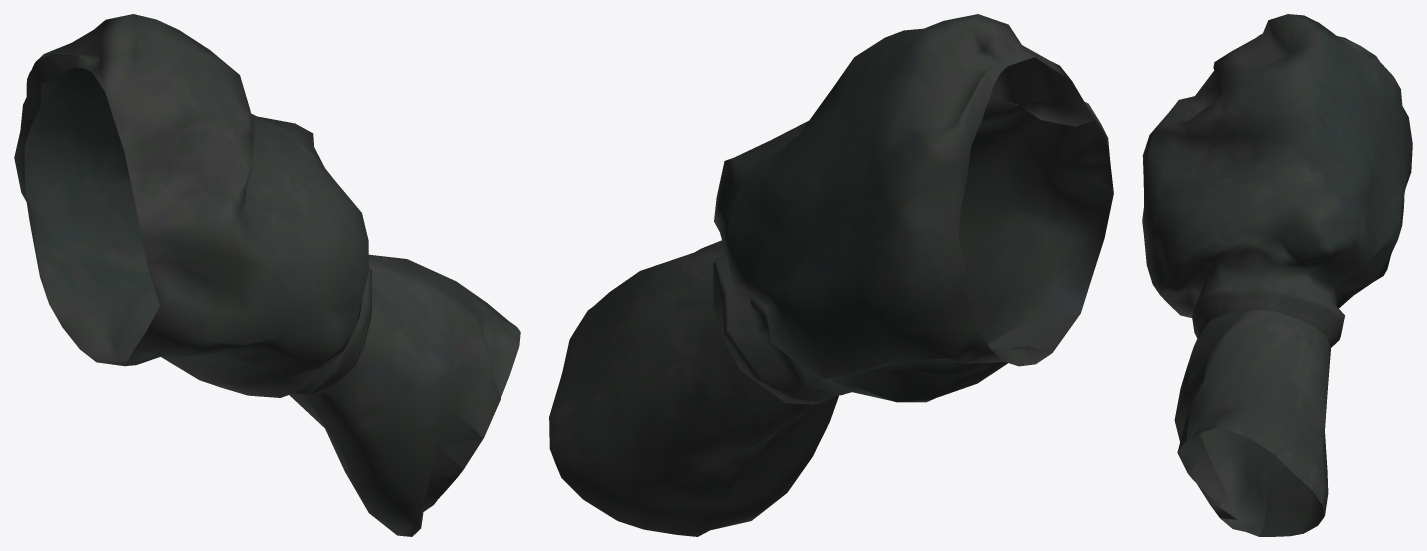
The model's file is leftarm.obj.
3 renders of one model, left to right at view 1: azimuth 30°, elevation 25°; view 2: azimuth 150°, elevation 25°; view 3: azimuth 270°, elevation 25°, orthographic. The views are drawn at different scales.
Visible parts, largest first — view 1: leftarm:Object01 leftarm:polySurface2 leftarm:polySurface4 lefta; view 2: leftarm:Object01 leftarm:polySurface2 leftarm:polySurface4 lefta; view 3: leftarm:Object01 leftarm:polySurface2 leftarm:polySurface4 lefta.
Part boxes in pixels (x1,y1,x2,y2): leftarm:Object01 leftarm:polySurface2 leftarm:polySurface4 lefta: (14,14,520,536); leftarm:Object01 leftarm:polySurface2 leftarm:polySurface4 lefta: (549,14,1113,536); leftarm:Object01 leftarm:polySurface2 leftarm:polySurface4 lefta: (1142,14,1412,536).
Bounding box in the file's own units: 4.91 × 6.09 × 3.54.
1 material, 1 textured.
